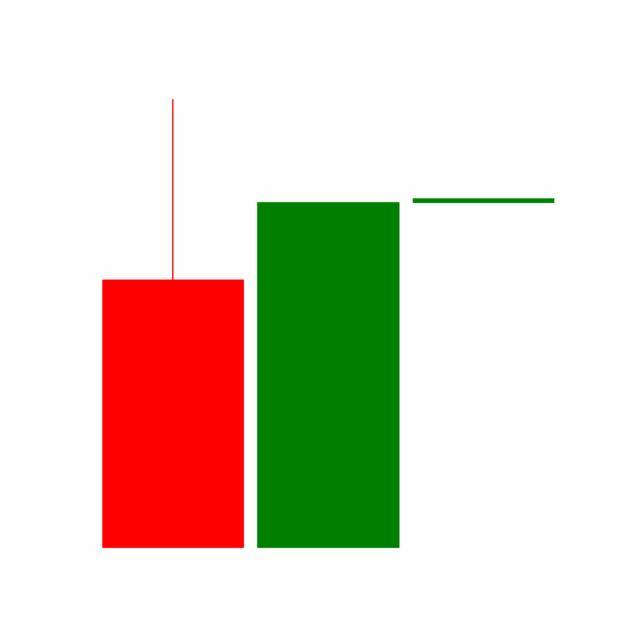Marubozu: (249, 198, 406, 550)
